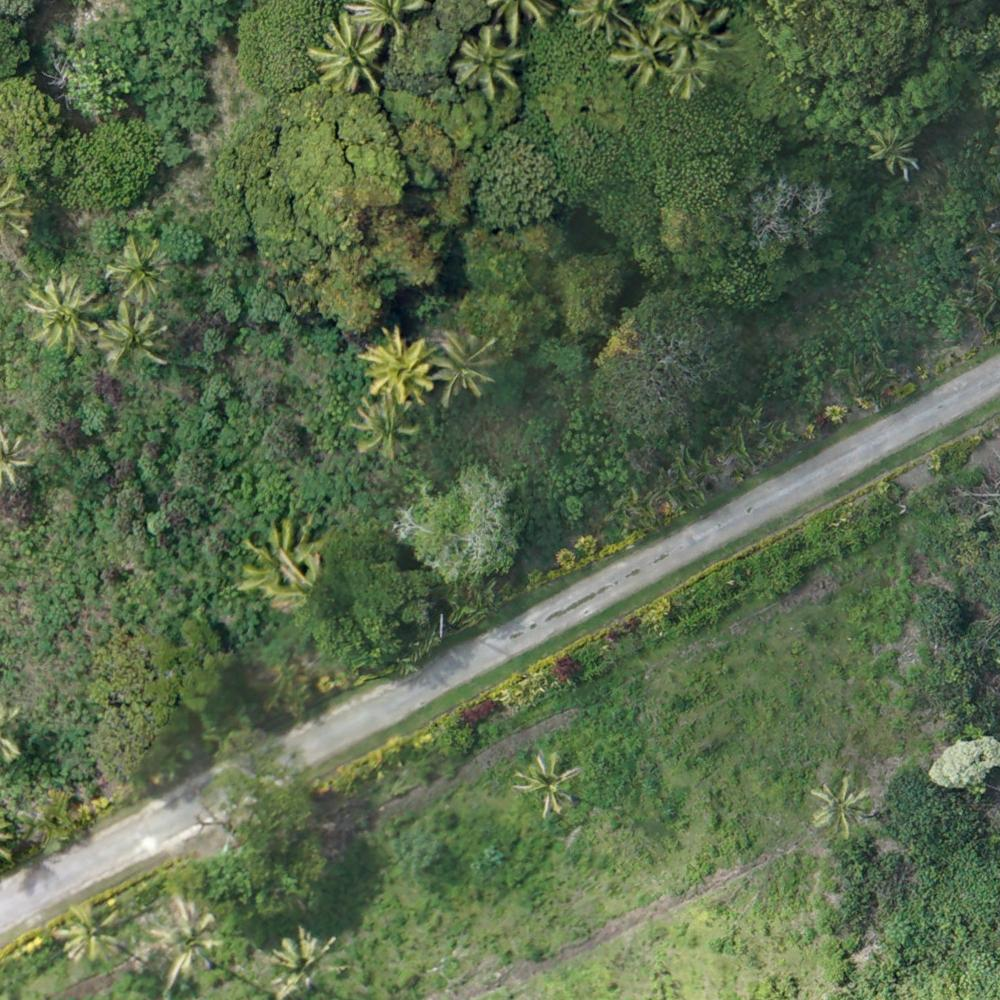Palm: (150, 897, 228, 983), (25, 276, 103, 352), (97, 297, 173, 374), (424, 330, 503, 400), (306, 16, 384, 86), (55, 898, 134, 966), (348, 396, 425, 464), (362, 327, 437, 396), (448, 26, 519, 95), (272, 930, 343, 993), (809, 776, 875, 839), (521, 748, 578, 819), (103, 235, 166, 299), (607, 22, 670, 83), (868, 128, 918, 178)
